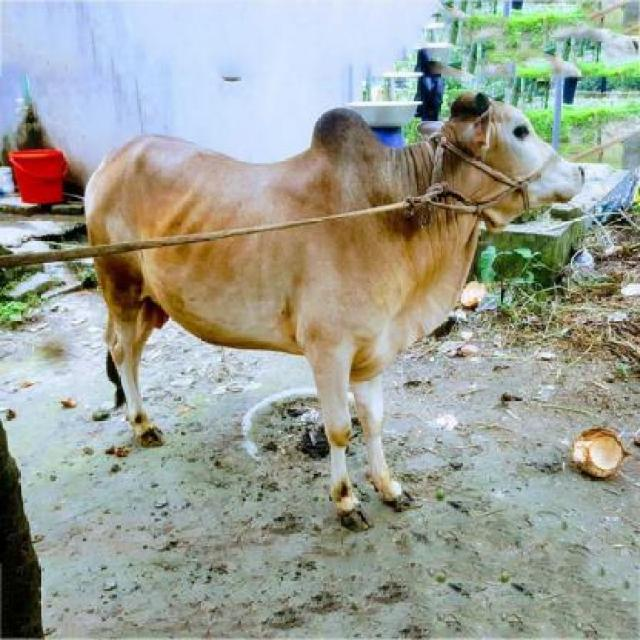Cow: (82, 91, 589, 538)
